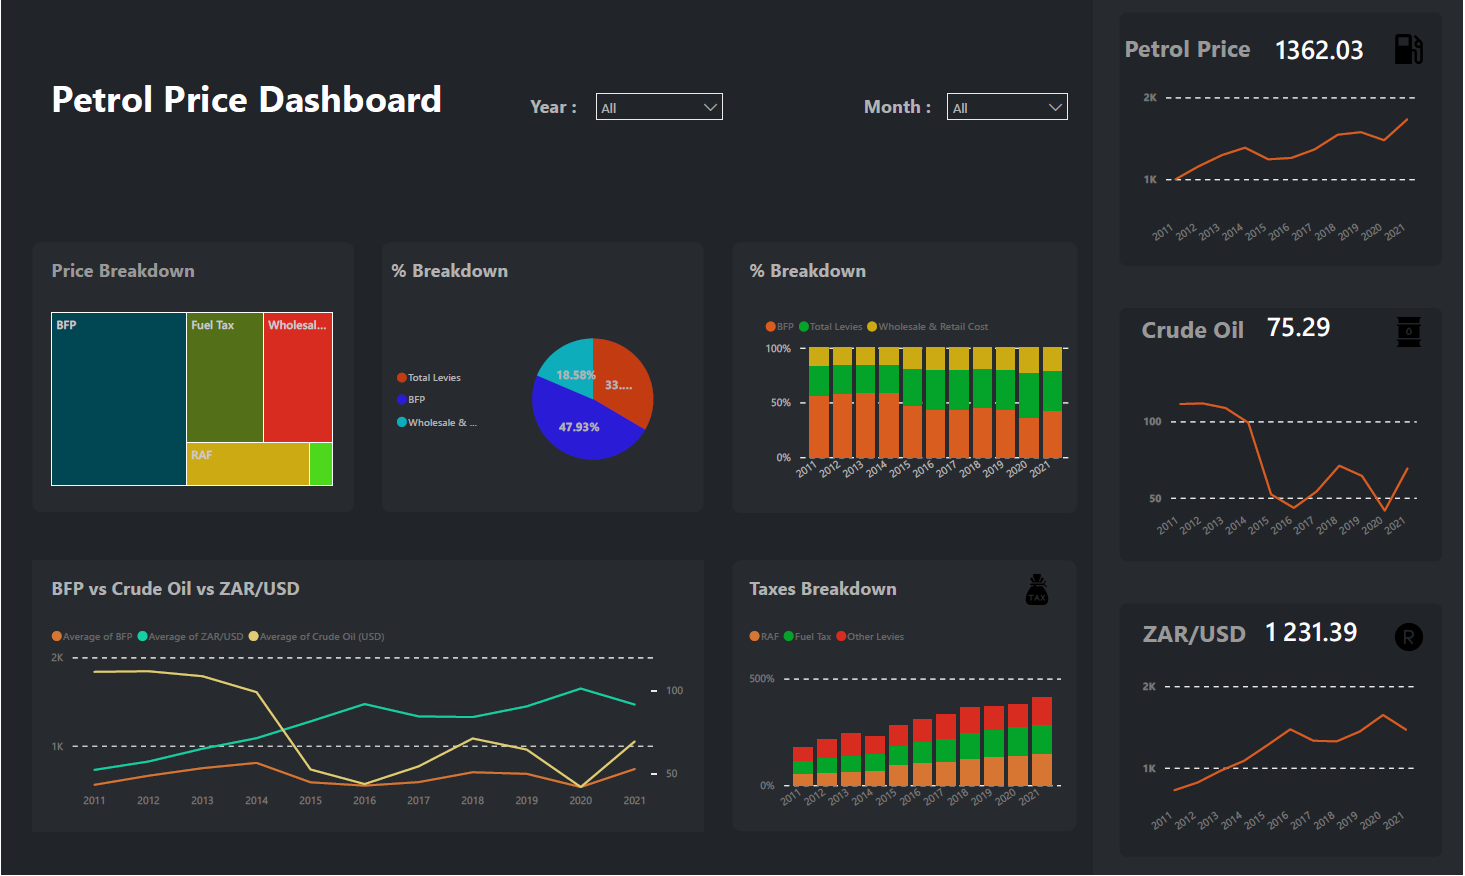

The dashboard page shown, as its layout file describes it:
{"tool":"powerbi","page":{"name":"Portfolio v3","canvas":[1280,720],"ordinal":2},"visuals":[{"type":"shape","box":[22.1,65.5,267.5,641.2],"z":1000},{"type":"shape","box":[318,452.5,300,250],"z":2000},{"type":"shape","box":[958.2,452.5,300,250],"z":3000},{"type":"shape","box":[630.6,452.5,300.2,249.7],"z":4000},{"type":"shape","box":[317,154.1,613.7,278.1],"z":5000},{"type":"shape","box":[958.2,154.1,300.2,278.1],"z":6000},{"type":"shape","box":[872.3,65.5,386.1,55.8],"z":7000},{"type":"shape","box":[34.5,73.5,235,185],"z":8000},{"type":"shape","box":[34.5,289.2,235,185],"z":9000},{"type":"shape","box":[34.5,504.8,235,185],"z":10000},{"type":"treemap","fields":{"Values":["Avg(Dataframe_v2.Total Levies)","Avg(Dataframe_v2.Wholesale & Retail Cost)","Avg(Dataframe_v2.RAF)","Avg(Dataframe_v2.Other_Levies)","Avg(Dataframe_v2.Fuel_tax)","Avg(Dataframe_v2.BFP)"]},"box":[984.8,503,248,176.2],"z":11000},{"type":"shape","box":[349.8,503,235.6,185.1],"z":12000},{"type":"columnChart","fields":{"Category":["Dataframe_v2.Date.Variation.Date Hierarchy.Year","Dataframe_v2.Date.Variation.Date Hierarchy.Quarter","Dataframe_v2.Date.Variation.Date Hierarchy.Month"],"Y":["Avg(Dataframe_v2.Total Levies)"]},"box":[349.8,504.8,235.6,168.3],"z":13000},{"type":"lineChart","fields":{"Category":["Dataframe_v2.Date.Variation.Date Hierarchy.Year","Dataframe_v2.Date.Variation.Date Hierarchy.Quarter","Dataframe_v2.Date.Variation.Date Hierarchy.Month"],"Y":["Avg(Dataframe_v2.Total_Price)"]},"box":[62,123.1,195.7,123.1],"z":14000},{"type":"lineChart","fields":{"Category":["Dataframe_v2.Date.Variation.Date Hierarchy.Year","Dataframe_v2.Date.Variation.Date Hierarchy.Quarter","Dataframe_v2.Date.Variation.Date Hierarchy.Month","Dataframe_v2.Date.Variation.Date Hierarchy.Day"],"Y":["Avg(Dataframe_v2.ZAR/USD)"]},"box":[54,556.2,195.7,123.1],"z":15000},{"type":"lineChart","fields":{"Category":["Dataframe_v2.Date.Variation.Date Hierarchy.Year","Dataframe_v2.Date.Variation.Date Hierarchy.Quarter","Dataframe_v2.Date.Variation.Date Hierarchy.Month"],"Y":["Avg(Dataframe_v2.Crude Oil (USD))"]},"box":[54,339.2,195.7,123.1],"z":16000},{"type":"shape","box":[983.9,202.8,248,207.2],"z":17000},{"type":"textbox","box":[317.9,65.5,469.4,57.6],"z":18000},{"type":"textbox","box":[349.8,154.1,268.3,35.4],"z":19000},{"type":"textbox","box":[984.8,154.1,127.5,35.4],"z":20000},{"type":"textbox","box":[349.8,457,235.6,35.4],"z":21000},{"type":"textbox","box":[669.5,462.3,174.5,35.4],"z":22000},{"type":"textbox","box":[984.8,462.3,215.2,35.4],"z":23000},{"type":"textbox","box":[872.3,73.5,73.5,36.3],"z":24000},{"type":"textbox","box":[1040.6,75.3,88.6,36.3],"z":25000},{"type":"shape","box":[669.5,503,235.6,185.1],"z":26000},{"type":"pieChart","fields":{"Y":["Avg(Dataframe_v2.BFP)","Avg(Dataframe_v2.Wholesale & Retail Cost)","Avg(Dataframe_v2.Total Levies)"]},"box":[669.5,503,240,176.2],"z":27000},{"type":"shape","box":[327.7,202.8,563.2,207.2],"z":28000},{"type":"lineChart","fields":{"Category":["Dataframe_v2.Date.Variation.Date Hierarchy.Year","Dataframe_v2.Date.Variation.Date Hierarchy.Quarter","Dataframe_v2.Date.Variation.Date Hierarchy.Month"],"Y":["Avg(Dataframe_v2.Total_Price)","Avg(Dataframe_v2.ZAR/USD)"],"Y2":["Avg(Dataframe_v2.Crude Oil (USD))"]},"box":[340.1,209.9,550.8,207.2],"z":29000},{"type":"columnChart","fields":{"Y":["Sum(Dataframe_v2.RAF)","Sum(Dataframe_v2.Fuel_tax)","Sum(Dataframe_v2.Other_Levies)"],"Category":["Dataframe_v2.Date.Variation.Date Hierarchy.Year","Dataframe_v2.Date.Variation.Date Hierarchy.Month"]},"box":[984.8,202.8,248,207.2],"z":30000},{"type":"card","fields":{"Values":["Avg(Dataframe_v2.Total_Price)"]},"box":[180.7,87.7,69.1,30.1],"z":31000},{"type":"slicer","fields":{"Values":["Dataframe_v2.Date.Variation.Date Hierarchy.Year"]},"box":[923.7,70,124.9,47.8],"z":32000},{"type":"slicer","fields":{"Values":["Dataframe_v2.Date.Variation.Date Hierarchy.Month"]},"box":[1118.5,68.2,124.9,47.8],"z":33000},{"type":"textbox","box":[22.1,12.4,278.1,39],"z":34000},{"type":"textbox","box":[54,86.8,113.4,29.2],"z":34001},{"type":"card","fields":{"Values":["Avg(Dataframe_v2.Crude Oil (USD))"]},"box":[169.2,303.8,80.6,35.4],"z":34002},{"type":"textbox","box":[50.5,303.8,109.8,35.4],"z":34003},{"type":"textbox","box":[55.2,518.3,109.8,35.4],"z":34004},{"type":"card","fields":{"Values":["Avg(Dataframe_v2.ZAR/USD)"]},"box":[173.8,513,80.6,46.1],"z":34005}]}

Visuals, with their boxes on the page's 1280x720 design canvas (x1, y1, x2, y2). These are canvas units, not pixel positions in the 1465x876 screenshot, which may show the page scaled, cropped or inside an application window:
shape: rect(22, 66, 290, 707)
shape: rect(318, 452, 618, 702)
shape: rect(958, 452, 1258, 702)
shape: rect(631, 452, 931, 702)
shape: rect(317, 154, 931, 432)
shape: rect(958, 154, 1258, 432)
shape: rect(872, 66, 1258, 121)
shape: rect(34, 74, 270, 258)
shape: rect(34, 289, 270, 474)
shape: rect(34, 505, 270, 690)
treemap - Avg(Dataframe_v2.Total Levies) x Avg(Dataframe_v2.Wholesale & Retail Cost): rect(985, 503, 1233, 679)
shape: rect(350, 503, 585, 688)
columnChart - Dataframe_v2.Date.Variation.Date Hierarchy.Year x Dataframe_v2.Date.Variation.Date Hierarchy.Quarter: rect(350, 505, 585, 673)
lineChart - Dataframe_v2.Date.Variation.Date Hierarchy.Year x Dataframe_v2.Date.Variation.Date Hierarchy.Quarter: rect(62, 123, 258, 246)
lineChart - Dataframe_v2.Date.Variation.Date Hierarchy.Year x Dataframe_v2.Date.Variation.Date Hierarchy.Quarter: rect(54, 556, 250, 679)
lineChart - Dataframe_v2.Date.Variation.Date Hierarchy.Year x Dataframe_v2.Date.Variation.Date Hierarchy.Quarter: rect(54, 339, 250, 462)
shape: rect(984, 203, 1232, 410)
textbox: rect(318, 66, 787, 123)
textbox: rect(350, 154, 618, 190)
textbox: rect(985, 154, 1112, 190)
textbox: rect(350, 457, 585, 492)
textbox: rect(670, 462, 844, 498)
textbox: rect(985, 462, 1200, 498)
textbox: rect(872, 74, 946, 110)
textbox: rect(1041, 75, 1129, 112)
shape: rect(670, 503, 905, 688)
pieChart - Avg(Dataframe_v2.BFP) x Avg(Dataframe_v2.Wholesale & Retail Cost): rect(670, 503, 910, 679)
shape: rect(328, 203, 891, 410)
lineChart - Dataframe_v2.Date.Variation.Date Hierarchy.Year x Dataframe_v2.Date.Variation.Date Hierarchy.Quarter: rect(340, 210, 891, 417)
columnChart - Sum(Dataframe_v2.RAF) x Sum(Dataframe_v2.Fuel_tax): rect(985, 203, 1233, 410)
card - Avg(Dataframe_v2.Total_Price): rect(181, 88, 250, 118)
slicer - Dataframe_v2.Date.Variation.Date Hierarchy.Year: rect(924, 70, 1049, 118)
slicer - Dataframe_v2.Date.Variation.Date Hierarchy.Month: rect(1118, 68, 1243, 116)
textbox: rect(22, 12, 300, 51)
textbox: rect(54, 87, 167, 116)
card - Avg(Dataframe_v2.Crude Oil (USD)): rect(169, 304, 250, 339)
textbox: rect(50, 304, 160, 339)
textbox: rect(55, 518, 165, 554)
card - Avg(Dataframe_v2.ZAR/USD): rect(174, 513, 254, 559)
